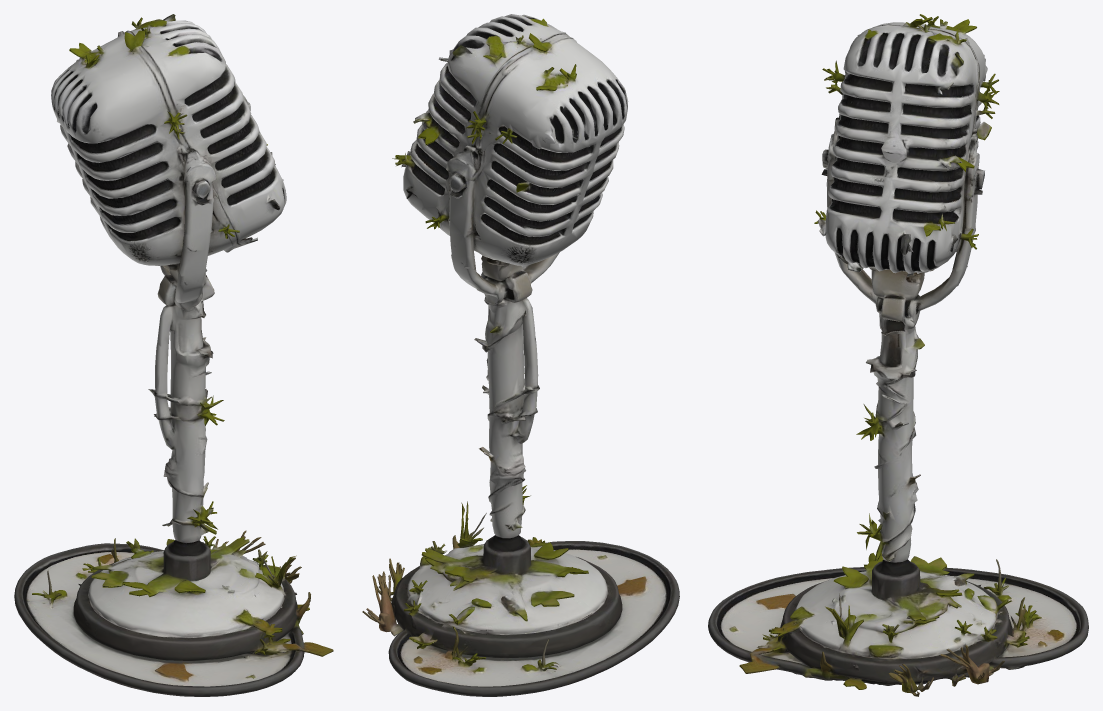
Rendered from vocals.glb.
3 renders of one model, left to right at view 1: azimuth 30°, elevation 25°; view 2: azimuth 150°, elevation 25°; view 3: azimuth 270°, elevation 25°, orthographic. The views are drawn at different scales.
Visible parts, largest first — view 1: tripo_node_1680f262-4406-4668-b680-ba3f69b95325; view 2: tripo_node_1680f262-4406-4668-b680-ba3f69b95325; view 3: tripo_node_1680f262-4406-4668-b680-ba3f69b95325.
Boxes of the visible parts, bbox=[...] form: tripo_node_1680f262-4406-4668-b680-ba3f69b95325: bbox=[14, 14, 333, 696]; tripo_node_1680f262-4406-4668-b680-ba3f69b95325: bbox=[362, 14, 679, 696]; tripo_node_1680f262-4406-4668-b680-ba3f69b95325: bbox=[708, 14, 1088, 696].
Size of the model in its own units: 0.4484 by 1 by 0.5683.
1 material, 1 textured.
